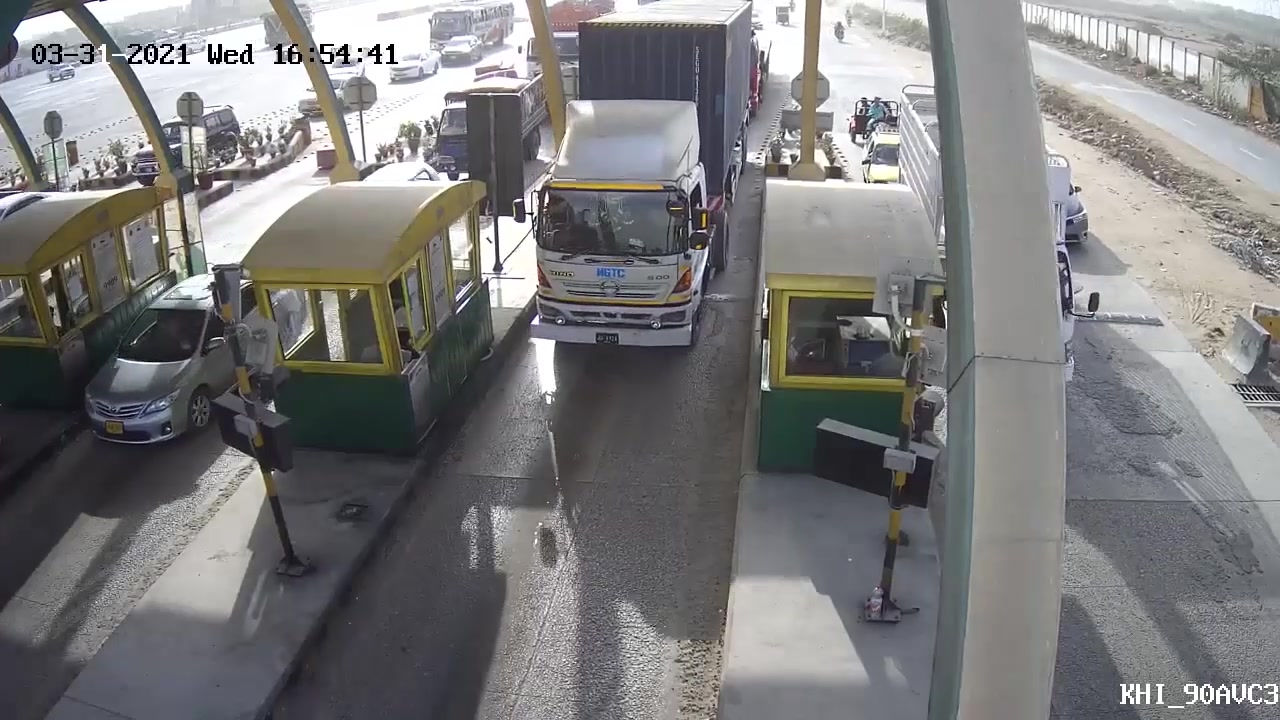F6: (529, 21, 734, 372)
